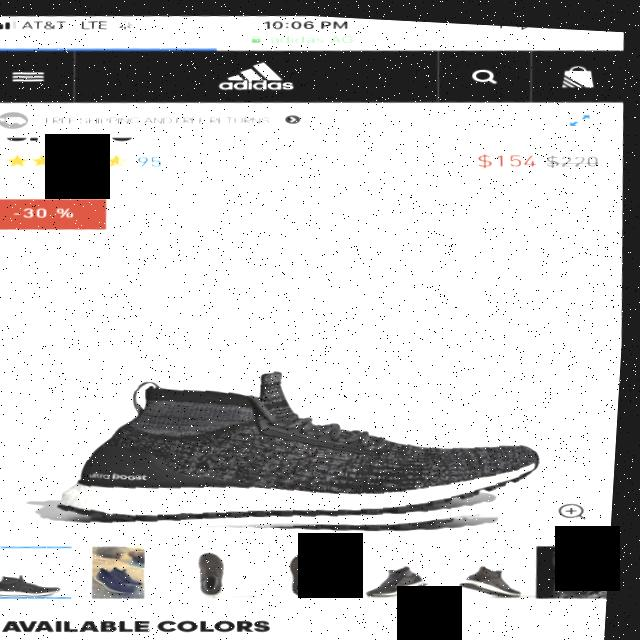shoe: (11, 333, 568, 560)
